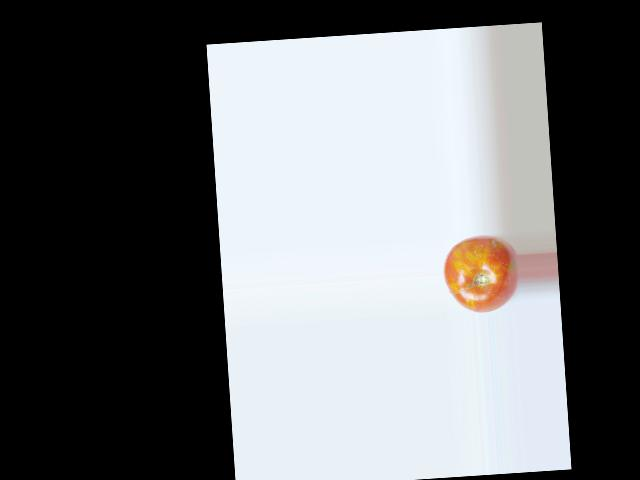tomato: (441, 233, 521, 315)
